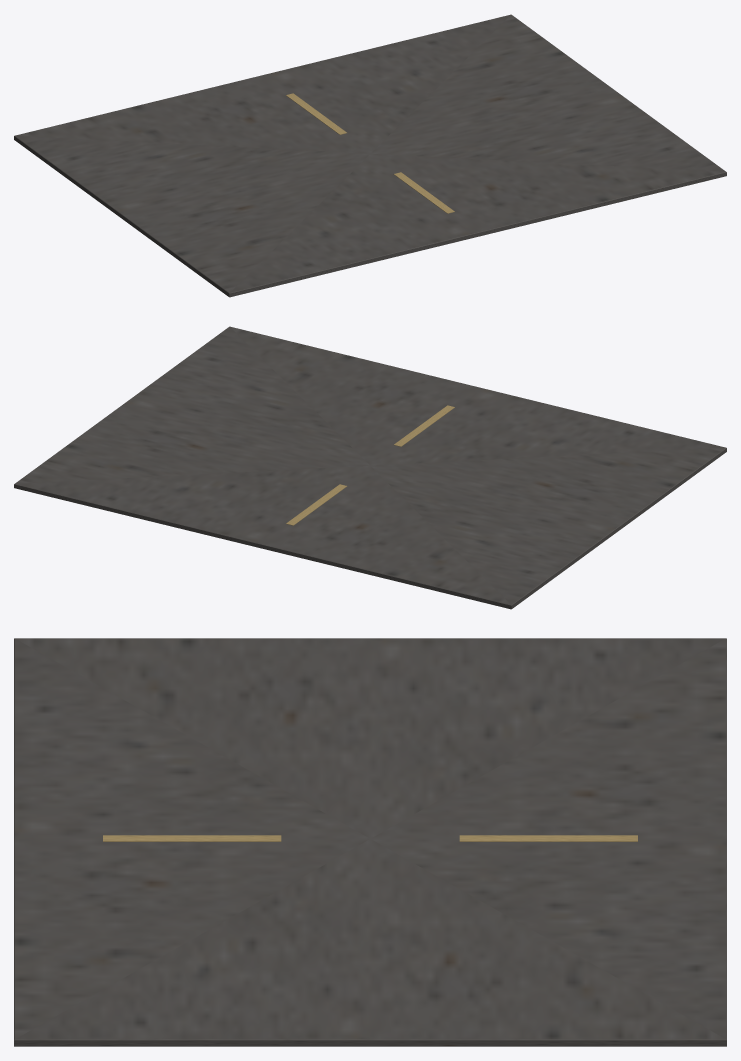
The model's file is showcase_road_straight.glb.
3 renders of one model, top to bottom at view 1: azimuth 30°, elevation 25°; view 2: azimuth 150°, elevation 25°; view 3: azimuth 270°, elevation 25°, orthographic. The views are drawn at different scales.
Visible parts, largest first — view 1: outdoor_showcase_road_straight; view 2: outdoor_showcase_road_straight; view 3: outdoor_showcase_road_straight.
Part boxes in pixels (x1,y1,x2,y2): outdoor_showcase_road_straight: [14, 14, 726, 297]; outdoor_showcase_road_straight: [14, 326, 726, 609]; outdoor_showcase_road_straight: [14, 638, 726, 1046].
Bounding box in the file's own units: 8 × 0.07 × 6.
Materials: 1 (1 with a texture image).
